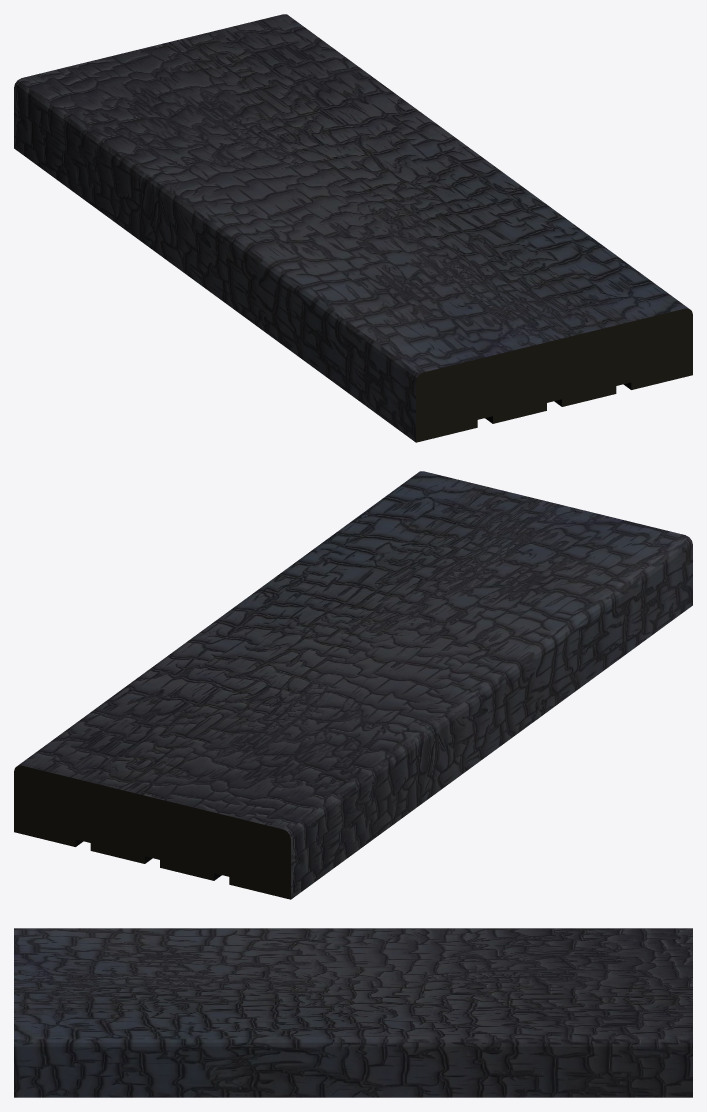
Rendered from larch-terrace-carbon.glb.
3 views of the same model, one above another, from view 1: azimuth 30°, elevation 25°; view 2: azimuth 150°, elevation 25°; view 3: azimuth 270°, elevation 25° (orthographic). The views are drawn at different scales.
Visible parts, largest first — view 1: Staciakampis; view 2: Staciakampis; view 3: Staciakampis.
Boxes of the visible parts, bbox=[...] form: Staciakampis: bbox=[14, 14, 692, 442]; Staciakampis: bbox=[14, 471, 692, 899]; Staciakampis: bbox=[14, 928, 692, 1097].
Bounding box in the file's own units: 0.0733 × 0.0173 × 0.1843.
3 materials, 1 textured.
